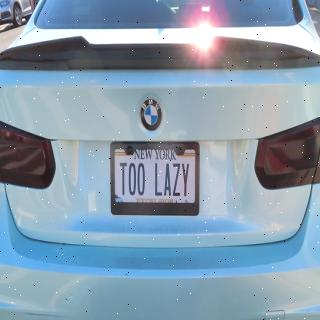license: (111, 143, 201, 217)
